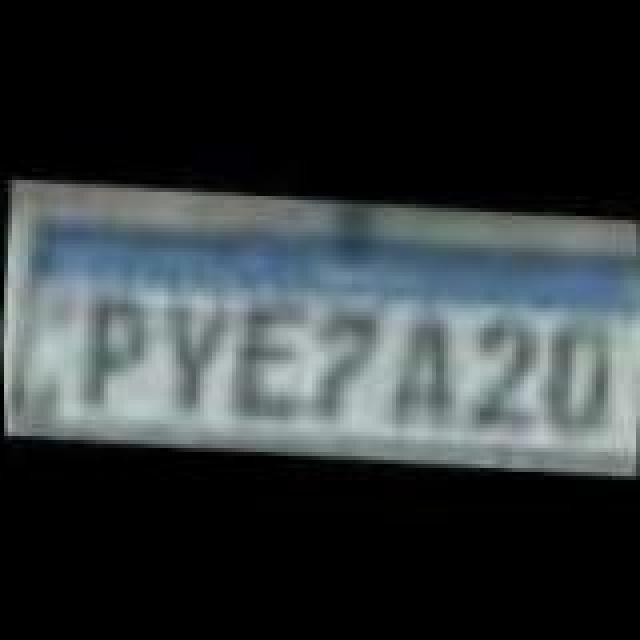2: (448, 306, 548, 438)
7: (294, 300, 382, 428)
A: (378, 304, 466, 432)
D: (534, 310, 622, 438)
E: (224, 298, 308, 426)
P: (76, 292, 148, 416)
Y: (158, 292, 238, 416)
